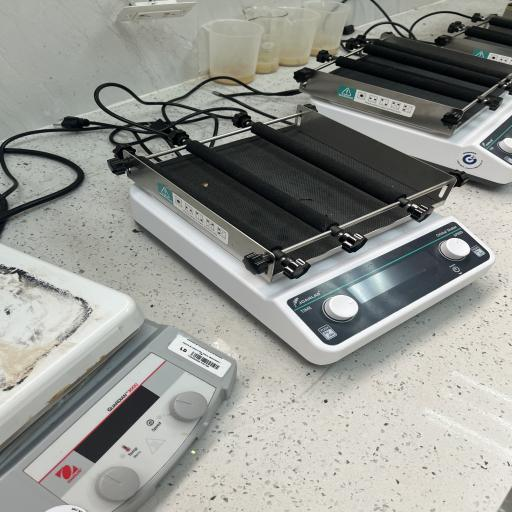Agitador_Orbital_DLAB: (106, 98, 510, 374)
